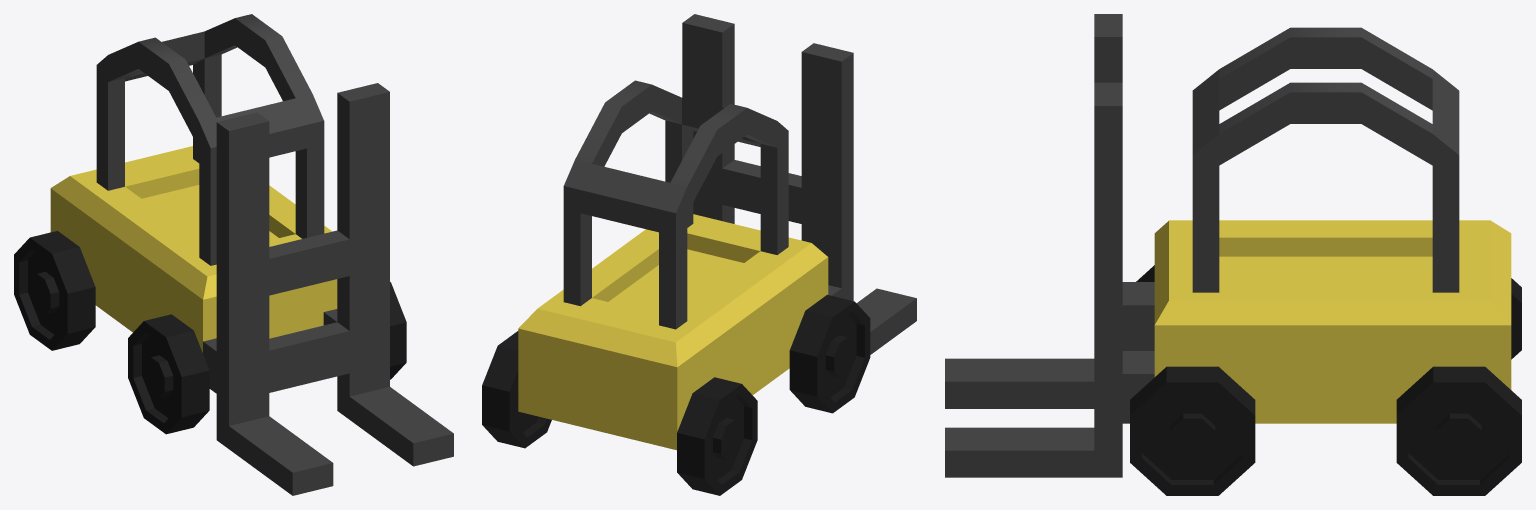
File: Forklift.fbx
3 renders of one model, left to right at view 1: azimuth 30°, elevation 25°; view 2: azimuth 150°, elevation 25°; view 3: azimuth 270°, elevation 25°, orthographic. The views are drawn at different scales.
Parts seen in each view (by area): view 1: Forklift1; view 2: Forklift1; view 3: Forklift1.
Boxes of the visible parts, x1,y1,x2,y2 form: Forklift1: (14, 14, 453, 495); Forklift1: (482, 14, 916, 495); Forklift1: (945, 14, 1521, 495).
Bounding box in the file's own units: 5.87 × 7.93 × 11.14.
